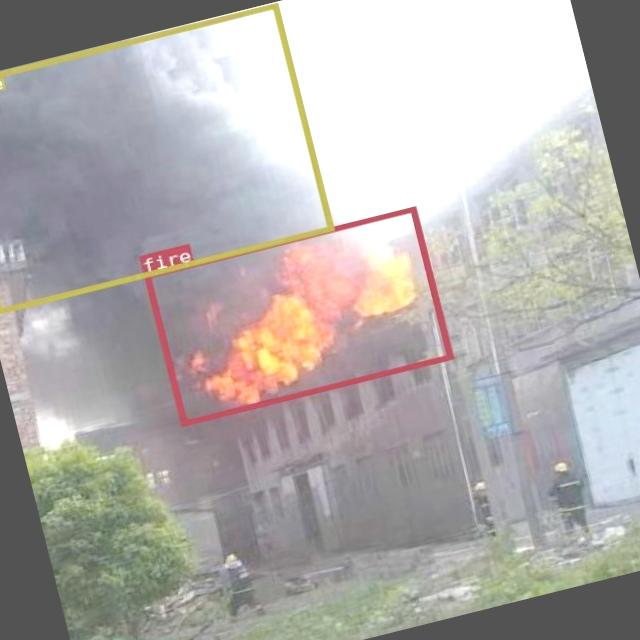fire: (142, 206, 452, 426)
smoke: (0, 2, 333, 313)
